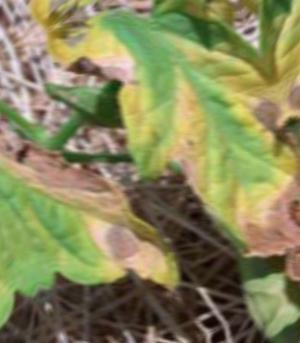Tomato Early blight leaf: (65, 0, 300, 305), (0, 86, 182, 343)
